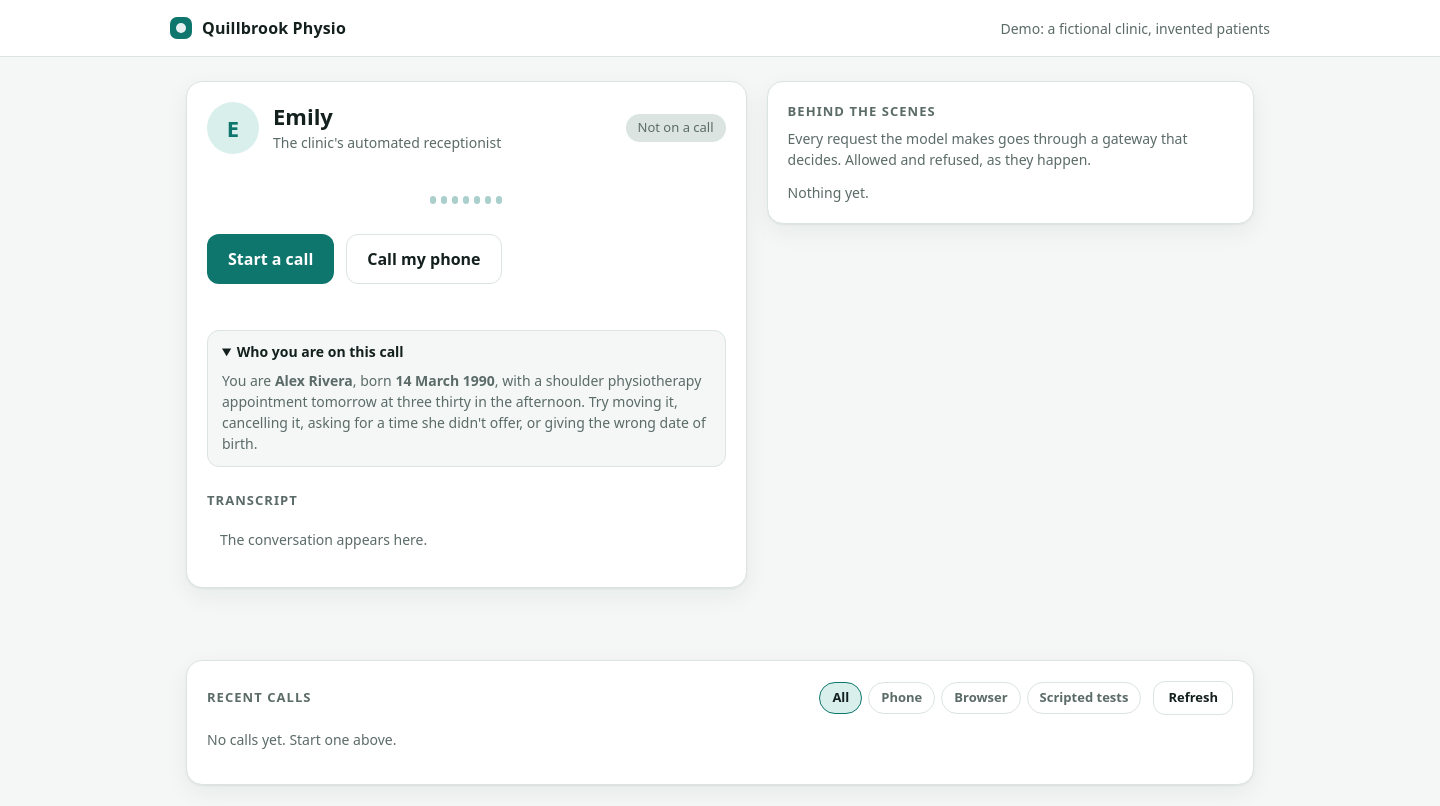
Test: ringing the owner's phone from the page › says why when the phone could not be rung, and lets the owner try again
What coordinates should you click on to do the following:
click the button "Call my phone"
I would click on:
 (424, 259)
Its box is [346,234,502,284].
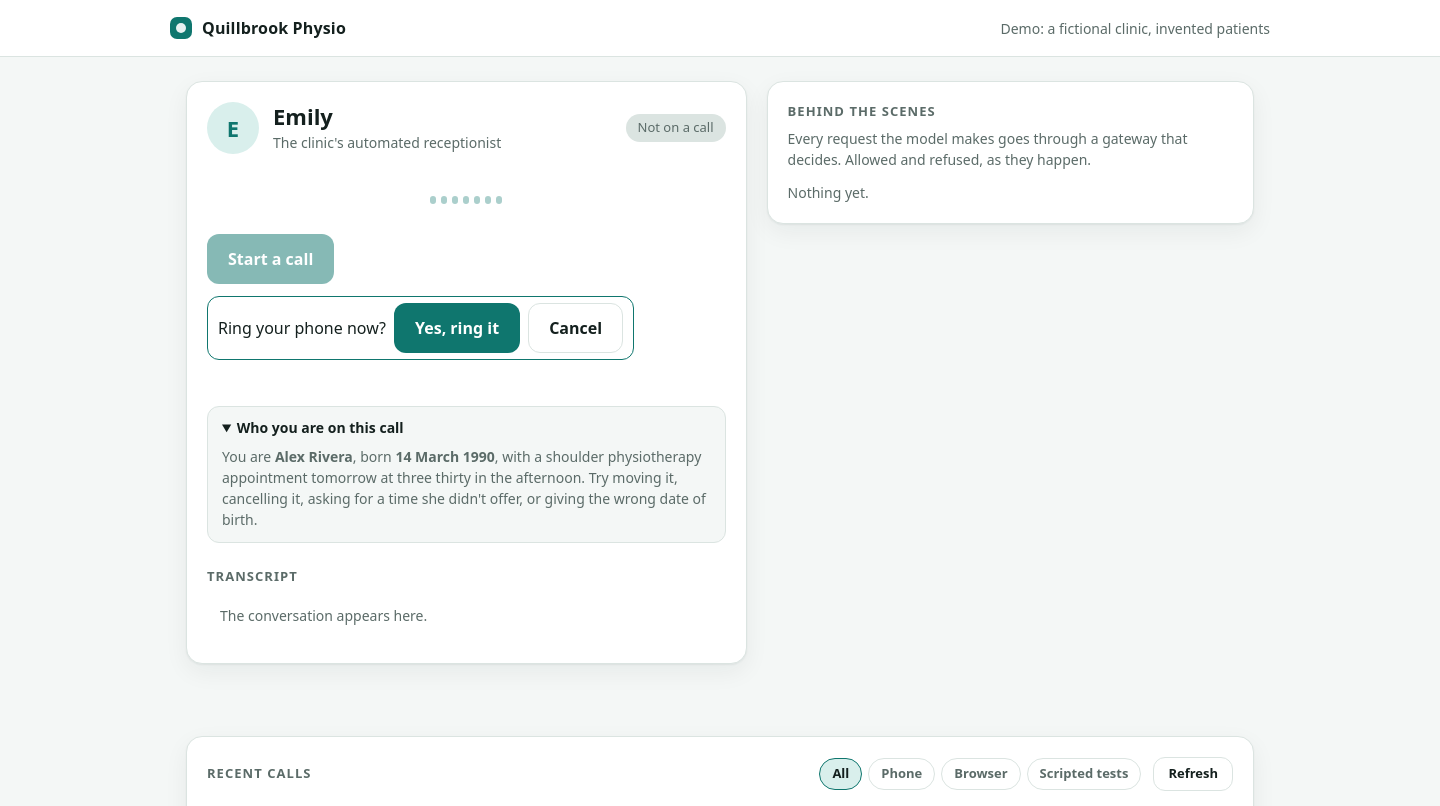
What coordinates should you click on to do the following:
click the button "Yes, ring it"
I would click on:
 (457, 328)
Its box is [394,303,520,353].
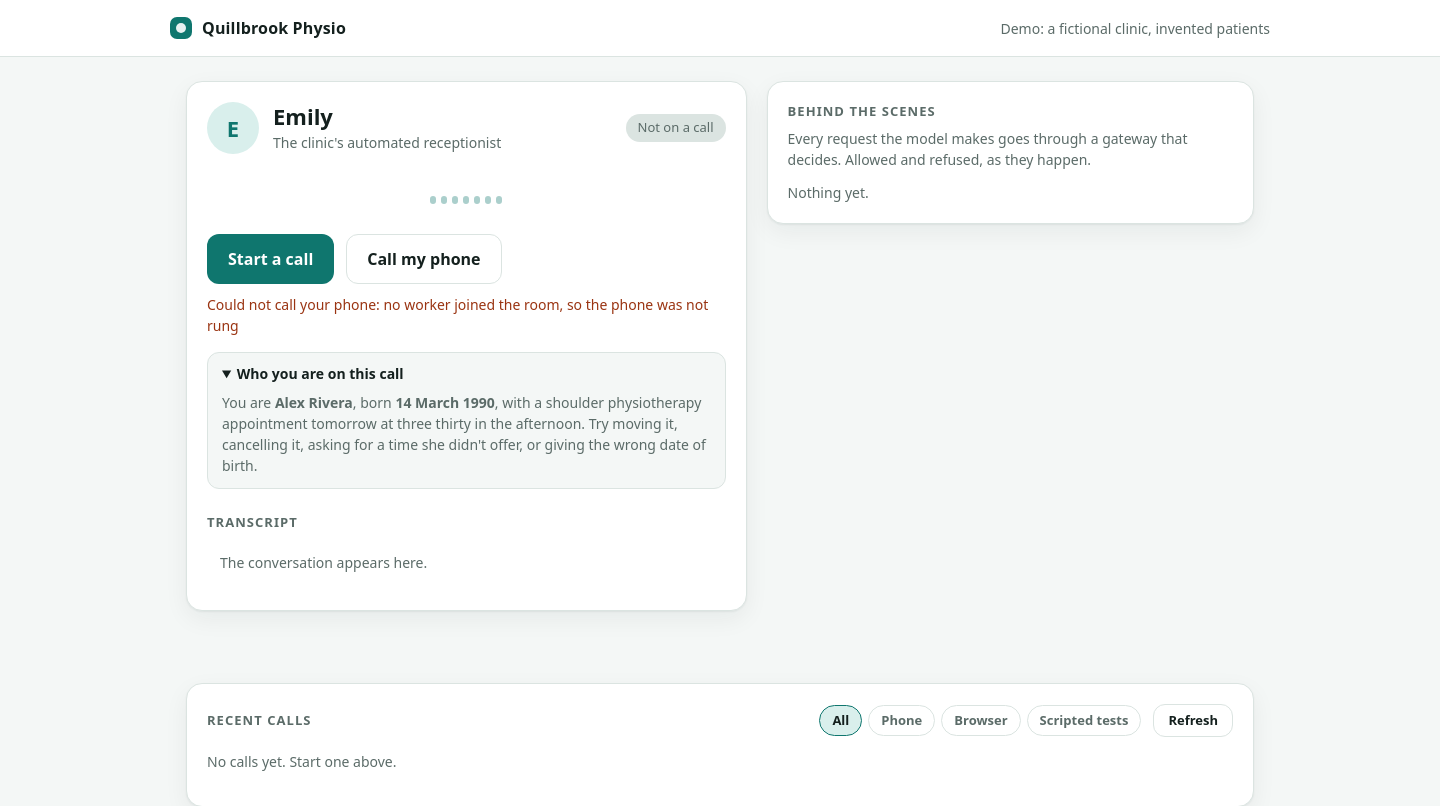
Expected: the button "Call my phone" is enabled, [346,234,502,284]
Expected: the text "Could not call your phone: no worker joined" is shown, [207,295,708,335]
